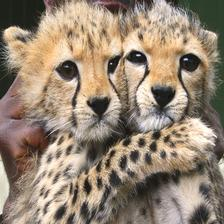Cheetah: (0, 0, 216, 222), (119, 0, 224, 222)
